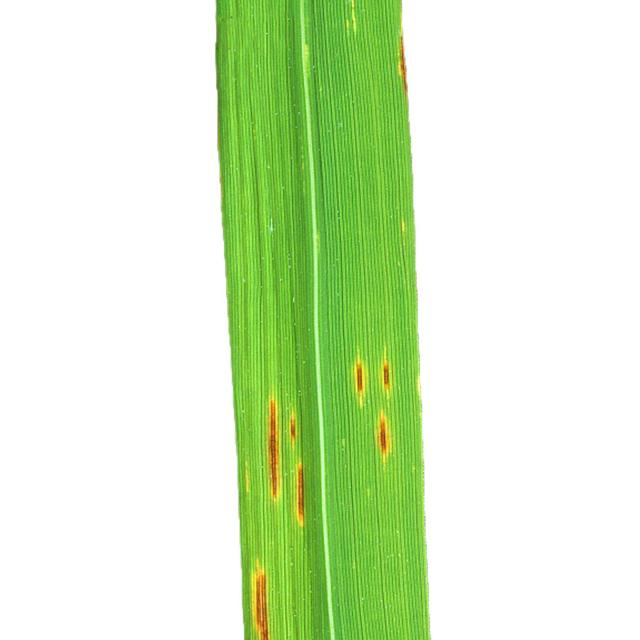Narrow brown: (183, 0, 540, 640)
